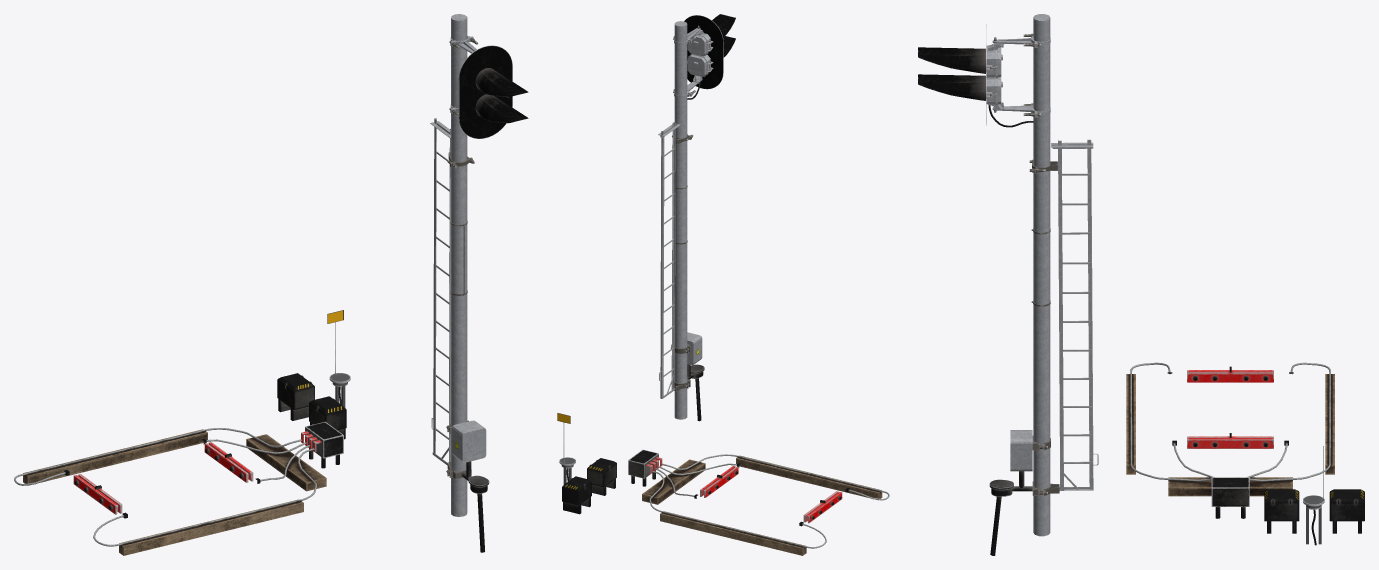
File: RM_sig_M_MM2_WR_2_shnt.gltf
The picture shows the model from 3 angles, left to right: view 1: azimuth 30°, elevation 25°; view 2: azimuth 150°, elevation 25°; view 3: azimuth 270°, elevation 25°; orthographic projection. The views are drawn at different scales.
Visible parts, largest first — view 1: Светофор 2, Изостык; view 2: Светофор 2, Изостык; view 3: Светофор 2, Изостык.
Boxes of the visible parts, bbox=[...] form: Светофор 2: bbox=[430, 14, 528, 552]; Изостык: bbox=[14, 310, 350, 555]; Светофор 2: bbox=[658, 14, 735, 421]; Изостык: bbox=[557, 413, 889, 555]; Светофор 2: bbox=[918, 14, 1098, 555]; Изостык: bbox=[1126, 362, 1364, 545].
Size of the model in its own units: 4.13 by 6.04 by 4.55.
3 materials, 2 textured.
